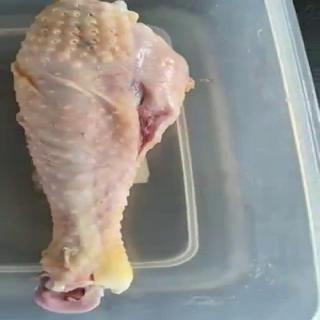Ayam: (10, 1, 196, 315)
